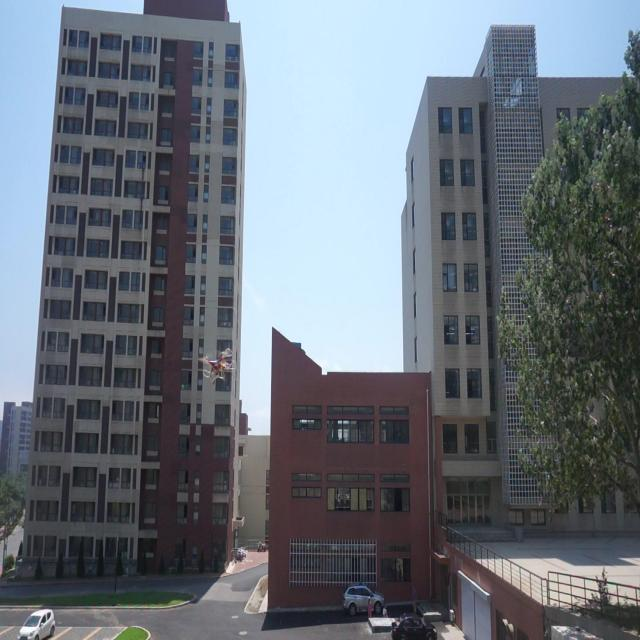UAV: (198, 349, 236, 385)
